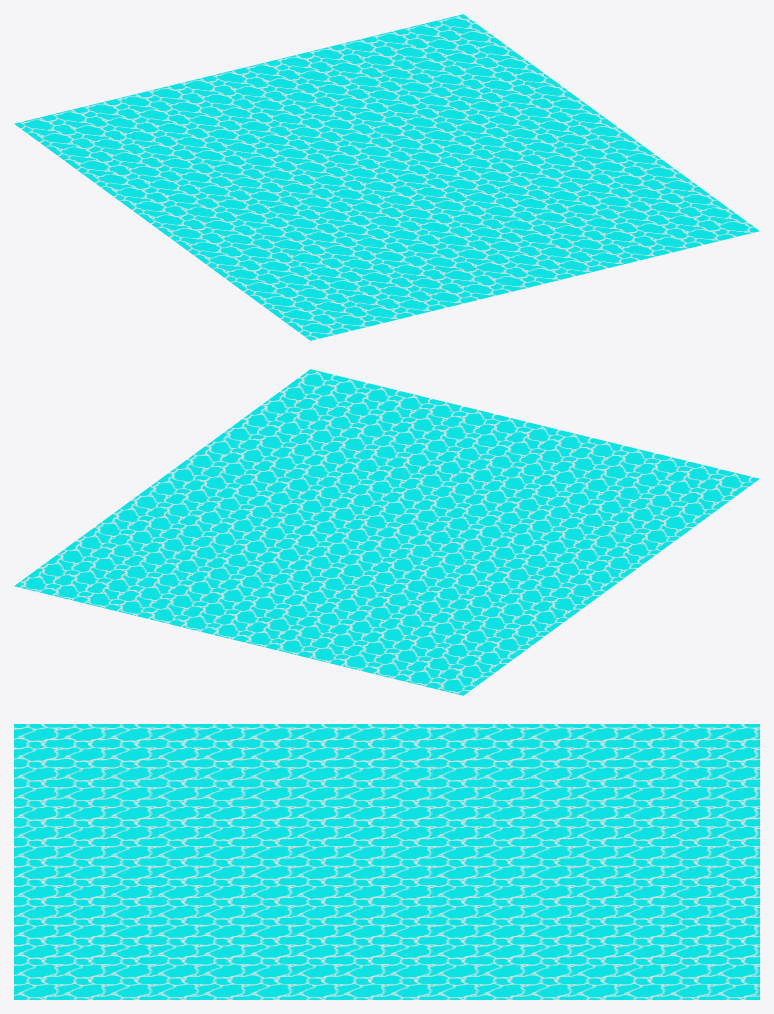
File: water_lev_9.fbx
3 views of the same model, one above another, from view 1: azimuth 30°, elevation 25°; view 2: azimuth 150°, elevation 25°; view 3: azimuth 270°, elevation 25° (orthographic). The views are drawn at different scales.
Parts seen in each view (by area): view 1: water_lev_10; view 2: water_lev_10; view 3: water_lev_10.
Part boxes in pixels (left/top/right/bottom): water_lev_10: left=14, top=14, right=759, bottom=340; water_lev_10: left=14, top=369, right=759, bottom=695; water_lev_10: left=14, top=724, right=759, bottom=999.
Size of the model in its own units: 5049 by 0.00094 by 5770.
